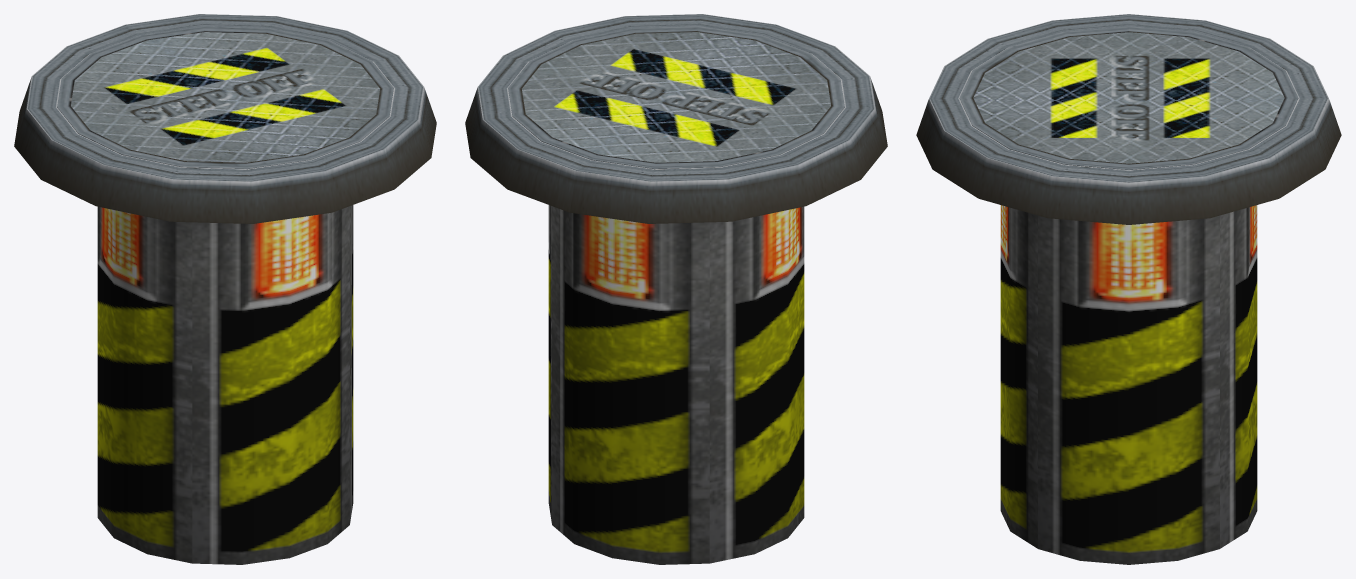
File: obst_turret_anim.fbx
3 renders of one model, left to right at view 1: azimuth 30°, elevation 25°; view 2: azimuth 150°, elevation 25°; view 3: azimuth 270°, elevation 25°, orthographic.
Parts seen in each view (by area): view 1: obst_turret_animated, obst_turret_base; view 2: obst_turret_animated, obst_turret_base; view 3: obst_turret_animated, obst_turret_base.
Boxes of the visible parts, x1,y1,x2,y2 form: obst_turret_animated: [57, 26, 393, 564]; obst_turret_base: [14, 14, 436, 223]; obst_turret_animated: [508, 26, 844, 564]; obst_turret_base: [465, 14, 887, 223]; obst_turret_animated: [959, 26, 1298, 564]; obst_turret_base: [916, 14, 1341, 224].
Bounding box in the file's own units: 69.51 × 74.41 × 69.51.
